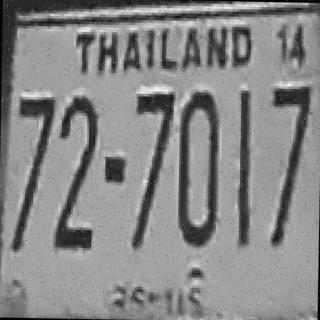N02: (52, 135, 94, 248), (57, 95, 97, 212)
N07: (269, 83, 311, 180), (134, 90, 174, 190), (16, 93, 54, 190), (269, 83, 311, 170)
P60: (104, 258, 211, 320)
